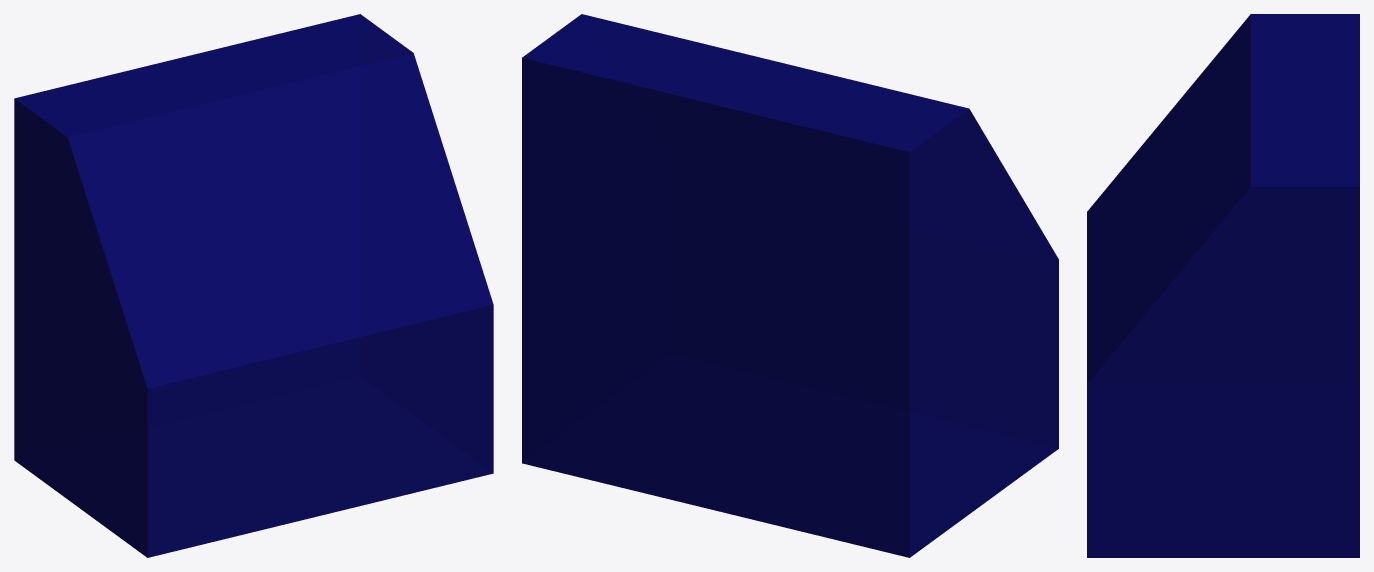
3 views of the same model, side by side, from view 1: azimuth 30°, elevation 25°; view 2: azimuth 150°, elevation 25°; view 3: azimuth 270°, elevation 25° (orthographic). The views are drawn at different scales.
Parts seen in each view (by area): view 1: SketchUp; view 2: SketchUp; view 3: SketchUp.
Part boxes in pixels (box(x1,y1,x2,y2)): SketchUp: box(14, 14, 493, 557); SketchUp: box(522, 14, 1058, 557); SketchUp: box(1087, 14, 1359, 557).
Size of the model in its own units: 1181 by 787 by 1181.
